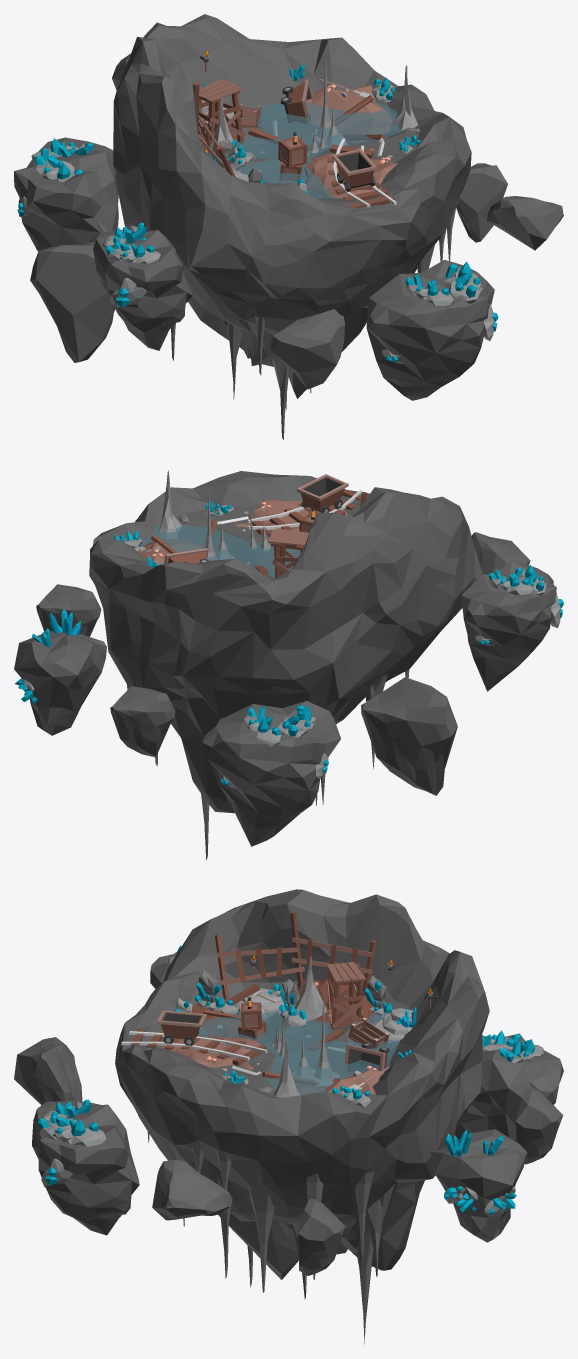
The model's file is land_83.fbx.
3 renders of one model, top to bottom at view 1: azimuth 30°, elevation 25°; view 2: azimuth 150°, elevation 25°; view 3: azimuth 270°, elevation 25°, orthographic. The views are drawn at different scales.
Parts seen in each view (by area): view 1: polySurface2569, polySurface2582, polySurface2582.001, polySurface2583.002, land_83.204, polySurface2582.002, polySurface2585, polySurface2585.001, land_83.206, polySurface2583, land_83.219, land_83.208 (+14 smaller); view 2: polySurface2569, polySurface2582.001, polySurface2583.002, polySurface2582.002, polySurface2584, polySurface2583.001, land_83.204, polySurface2583, polySurface2585, land_83.190, land_83.219, land_83.208 (+9 smaller); view 3: polySurface2569, polySurface2582, land_83.204, polySurface2584, polySurface2582.001, polySurface2585.001, polySurface2585, polySurface2583, polySurface2583.001, land_83.219, land_83.227, land_83.208 (+20 smaller).
Boxes of the visible parts, bbox=[...] form: polySurface2569: bbox=[112, 14, 471, 398]; polySurface2582: bbox=[366, 260, 494, 400]; polySurface2582.001: bbox=[14, 137, 118, 251]; polySurface2583.002: bbox=[30, 242, 114, 362]; land_83.204: bbox=[235, 102, 403, 198]; polySurface2582.002: bbox=[93, 230, 192, 350]; polySurface2585: bbox=[269, 309, 344, 389]; polySurface2585.001: bbox=[487, 196, 563, 250]; land_83.206: bbox=[305, 85, 392, 142]; polySurface2583: bbox=[456, 163, 507, 242]; land_83.219: bbox=[198, 79, 245, 143]; land_83.208: bbox=[304, 148, 398, 198]; polySurface2569: bbox=[89, 471, 482, 813]; polySurface2582.001: bbox=[202, 701, 340, 846]; polySurface2583.002: bbox=[361, 677, 457, 795]; polySurface2582.002: bbox=[461, 561, 556, 691]; polySurface2584: bbox=[14, 631, 106, 735]; polySurface2583.001: bbox=[110, 686, 175, 757]; land_83.204: bbox=[140, 524, 300, 576]; polySurface2583: bbox=[36, 584, 101, 636]; polySurface2585: bbox=[471, 532, 530, 574]; land_83.190: bbox=[297, 474, 348, 513]; land_83.219: bbox=[267, 528, 308, 579]; land_83.208: bbox=[234, 499, 348, 537]; polySurface2569: bbox=[115, 889, 489, 1279]; polySurface2582: bbox=[32, 1101, 139, 1235]; land_83.204: bbox=[198, 1005, 399, 1095]; polySurface2584: bbox=[431, 1129, 527, 1242]; polySurface2582.001: bbox=[455, 1033, 563, 1141]; polySurface2585.001: bbox=[152, 1160, 232, 1220]; polySurface2585: bbox=[14, 1037, 82, 1104]; polySurface2583: bbox=[298, 1198, 345, 1275]; polySurface2583.001: bbox=[515, 1087, 563, 1164]; land_83.219: bbox=[325, 962, 365, 1030]; land_83.227: bbox=[38, 1114, 105, 1146]; land_83.208: bbox=[160, 1036, 262, 1069].
Size of the model in its own units: 18.27 by 15.11 by 19.56.
